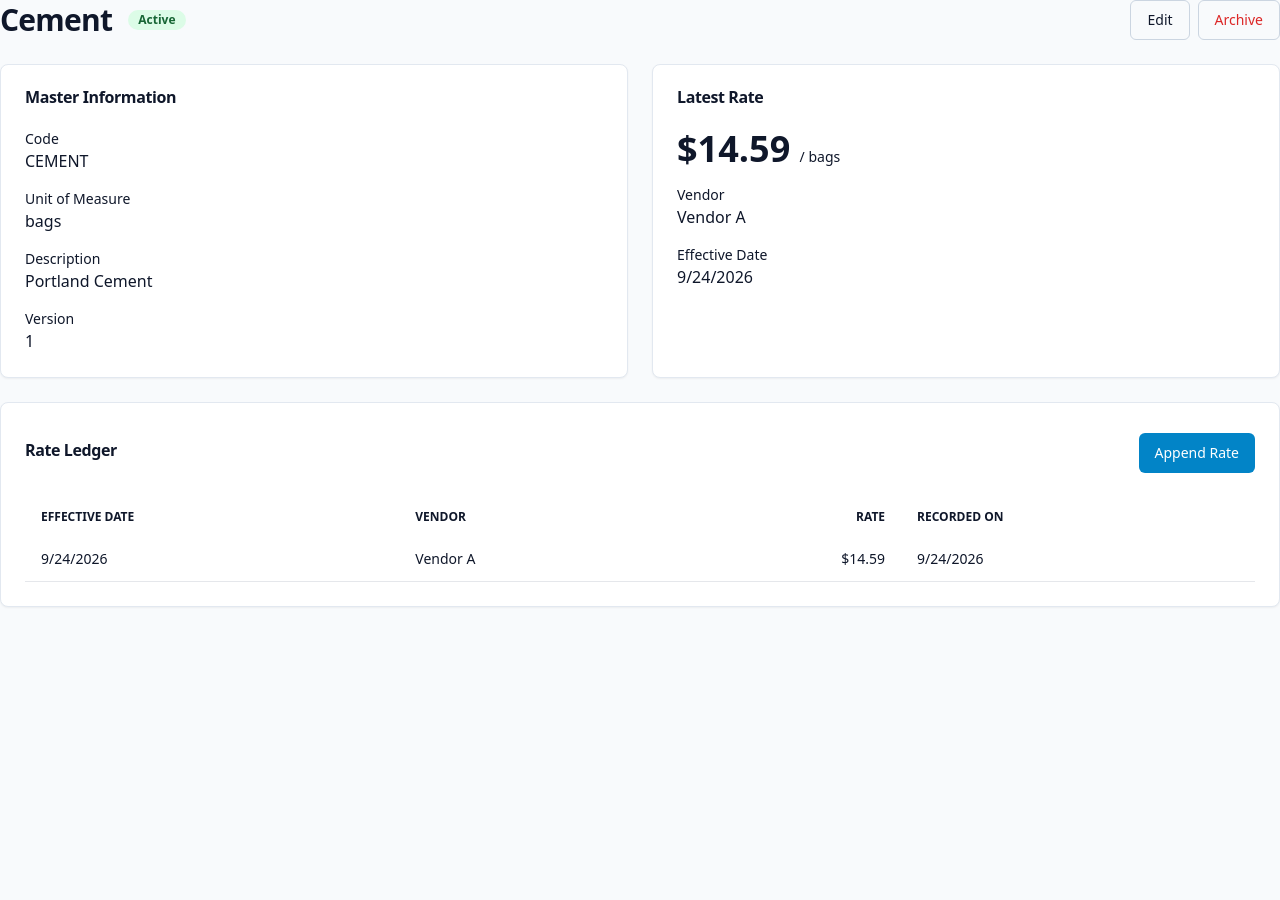
it: Materials Web Module › Material Detail (/materials/[id]) › should reject invalid rate inputs completely
Click the button "Append Rate" at [1197, 453], box [1138,433,1255,473]
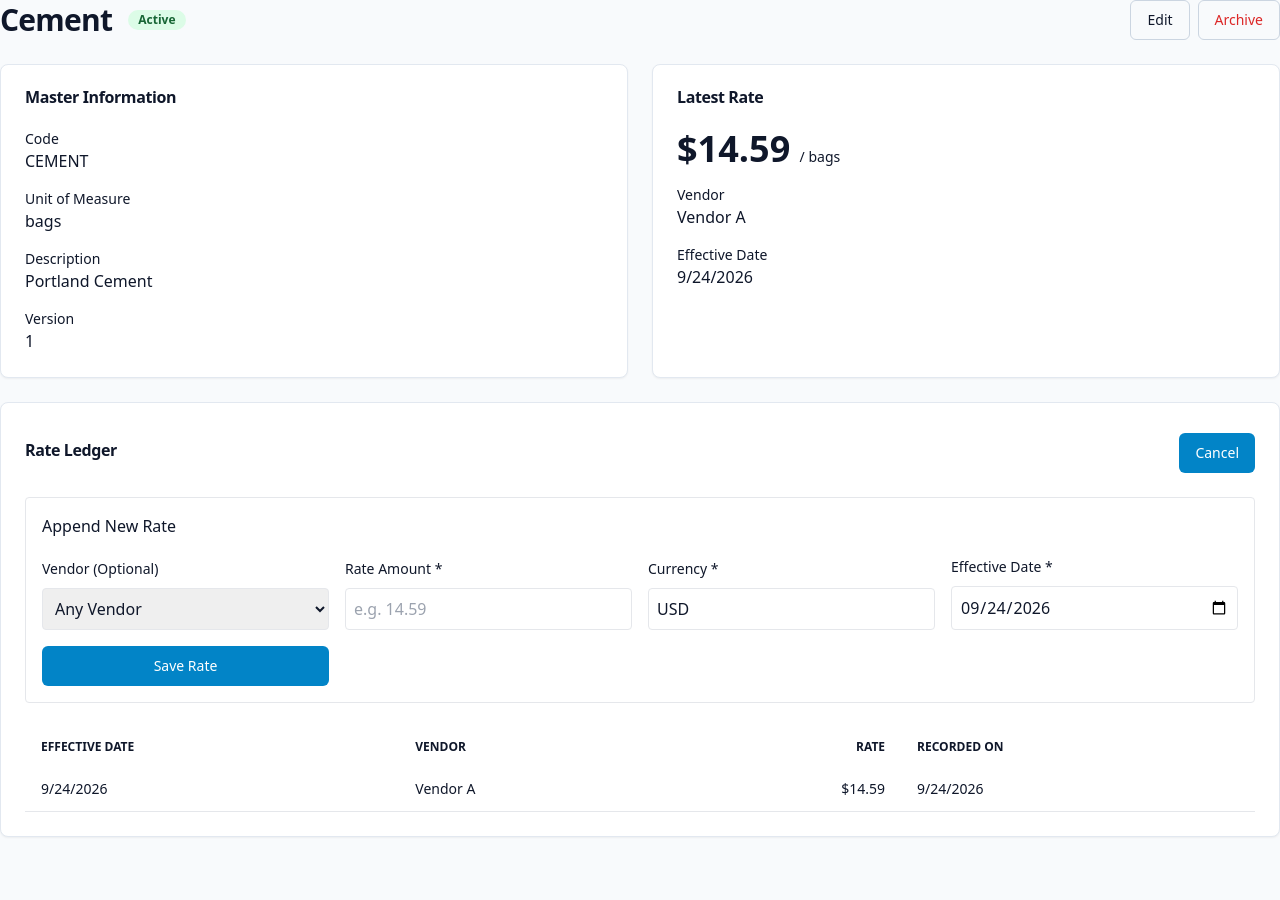
Type "invalid-string" into the field labelled "Rate Amount *" at [488, 609], box [345,588,632,630]
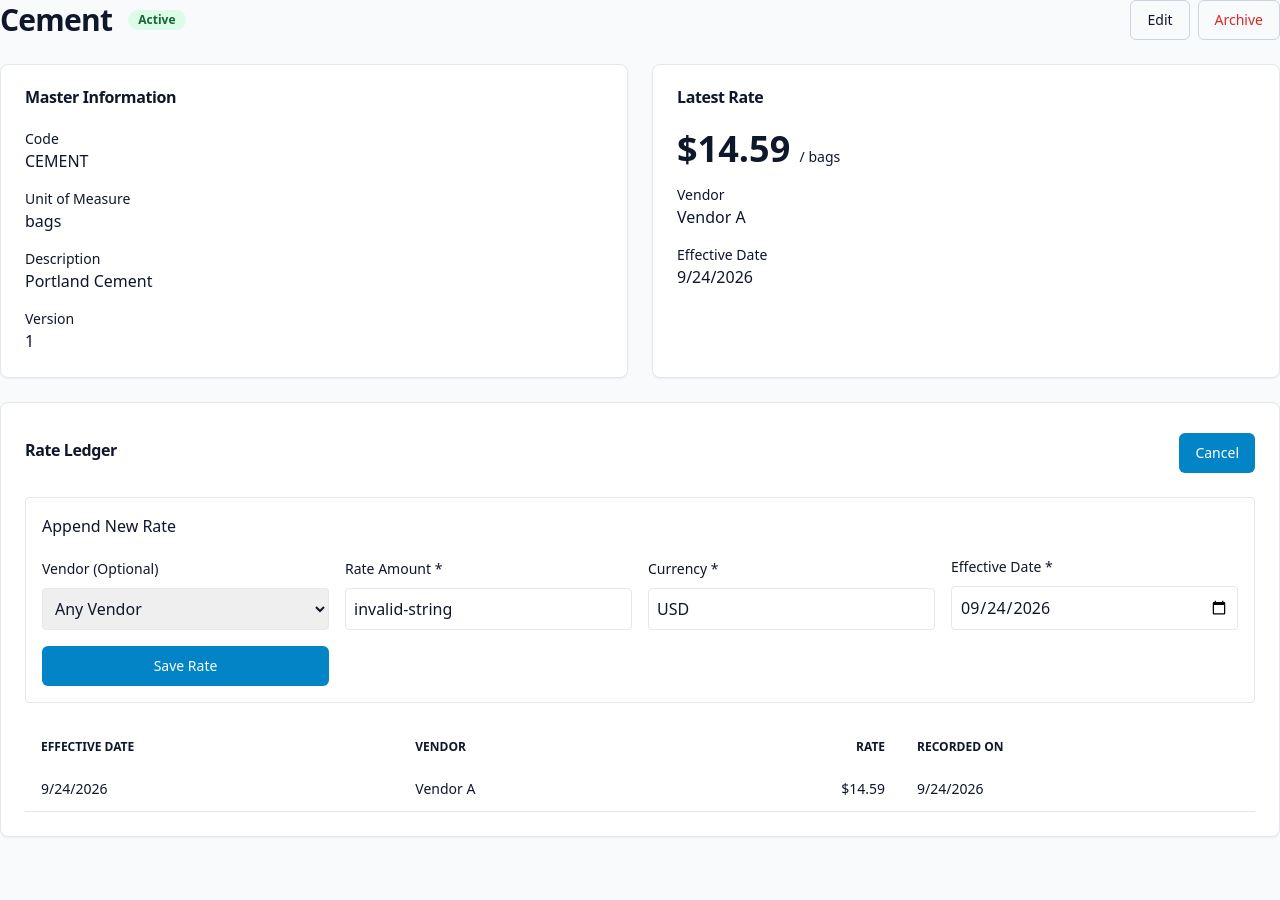
Click the button "Save Rate" at [186, 666], box [42,646,329,686]
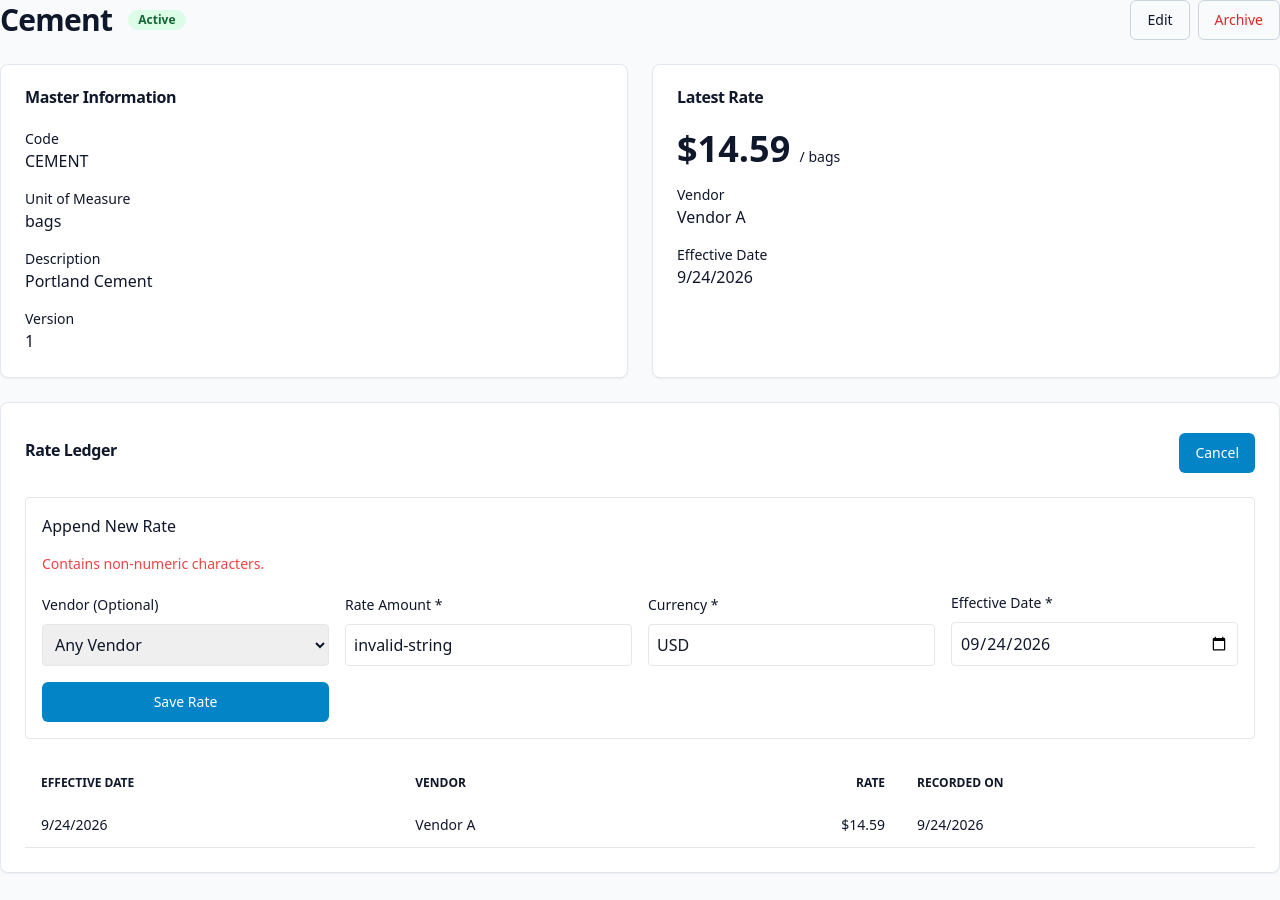
Check: the text "Contains non-numeric characters." is shown, box [42,554,264,573]
